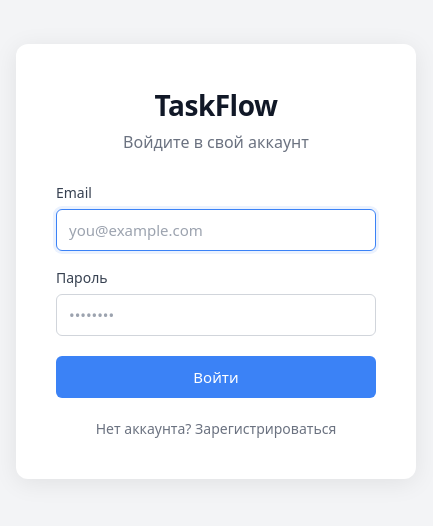
Test case: LoginForm — валидация › показывает ошибку при пустом email
Step 1. Click the button "Войти" → (216, 376), box [56,356,376,398]
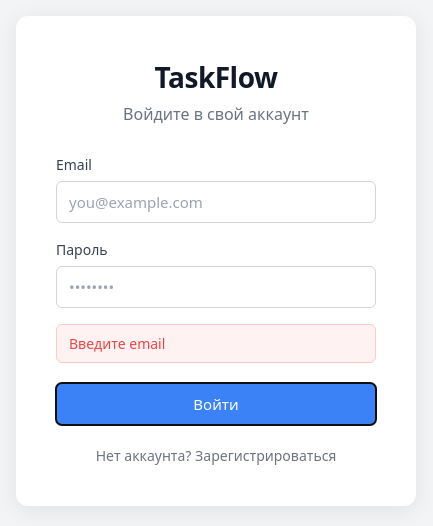
Expected: the message reads "Введите email", [69,334,165,353]
